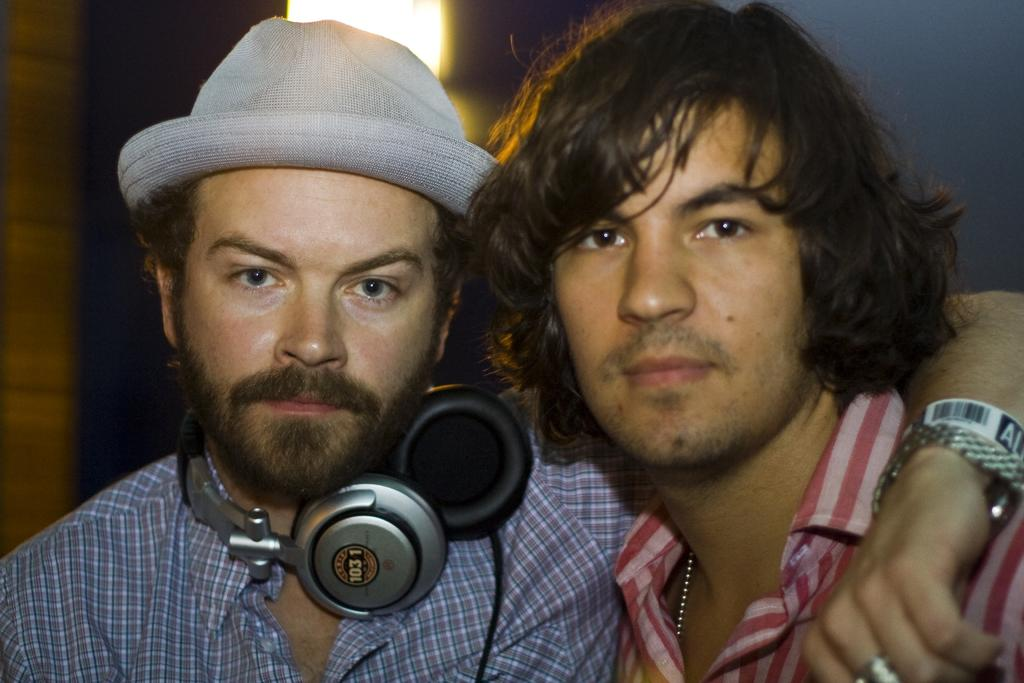Hat: (114, 19, 494, 221)
